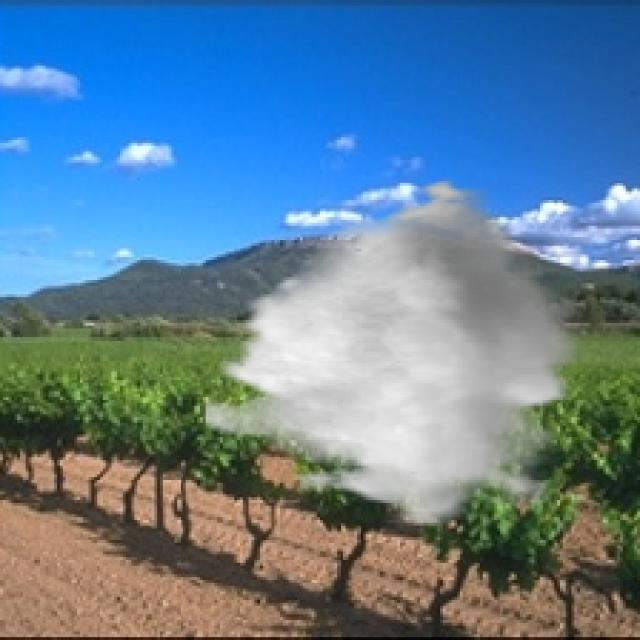smoke: (203, 171, 586, 526)
